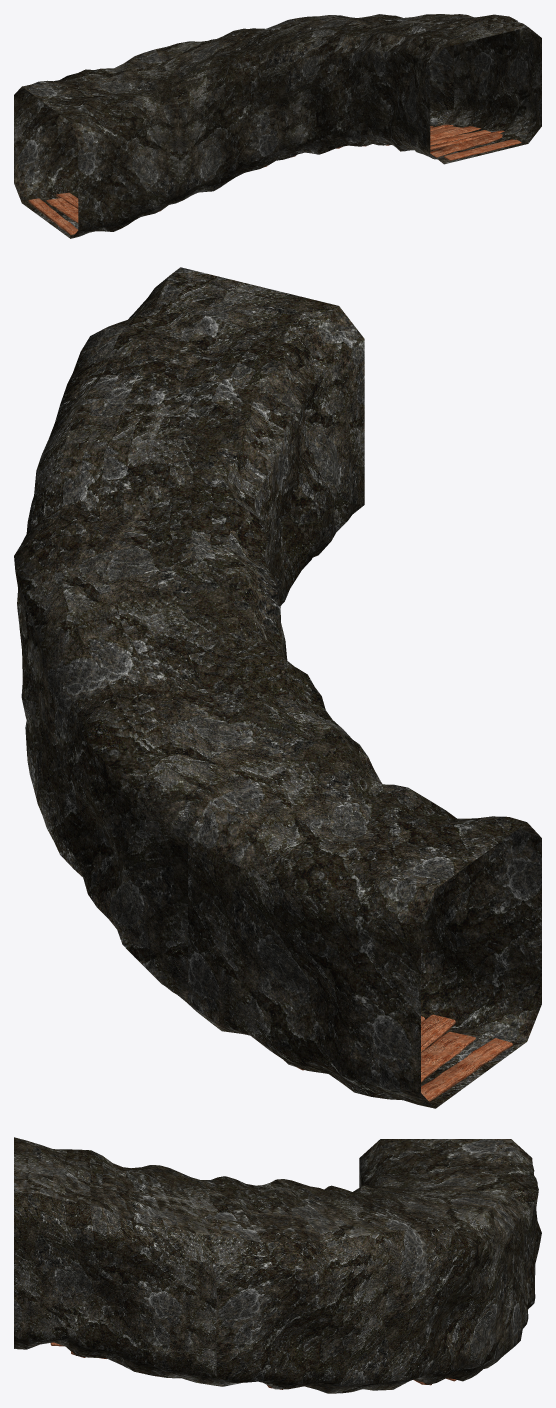
Rendered from Cave_054.fbx.
The picture shows the model from 3 angles, top to bottom: view 1: azimuth 30°, elevation 25°; view 2: azimuth 150°, elevation 25°; view 3: azimuth 270°, elevation 25°; orthographic projection. The views are drawn at different scales.
Parts seen in each view (by area): view 1: Cave.054; view 2: Cave.054; view 3: Cave.054.
Part boxes in pixels (x1=…): Cave.054: x1=14, y1=14, x2=541, y2=238; Cave.054: x1=14, y1=267, x2=541, y2=1108; Cave.054: x1=14, y1=1137, x2=541, y2=1393.
Bounding box in the file's own units: 913 × 608 × 917.
